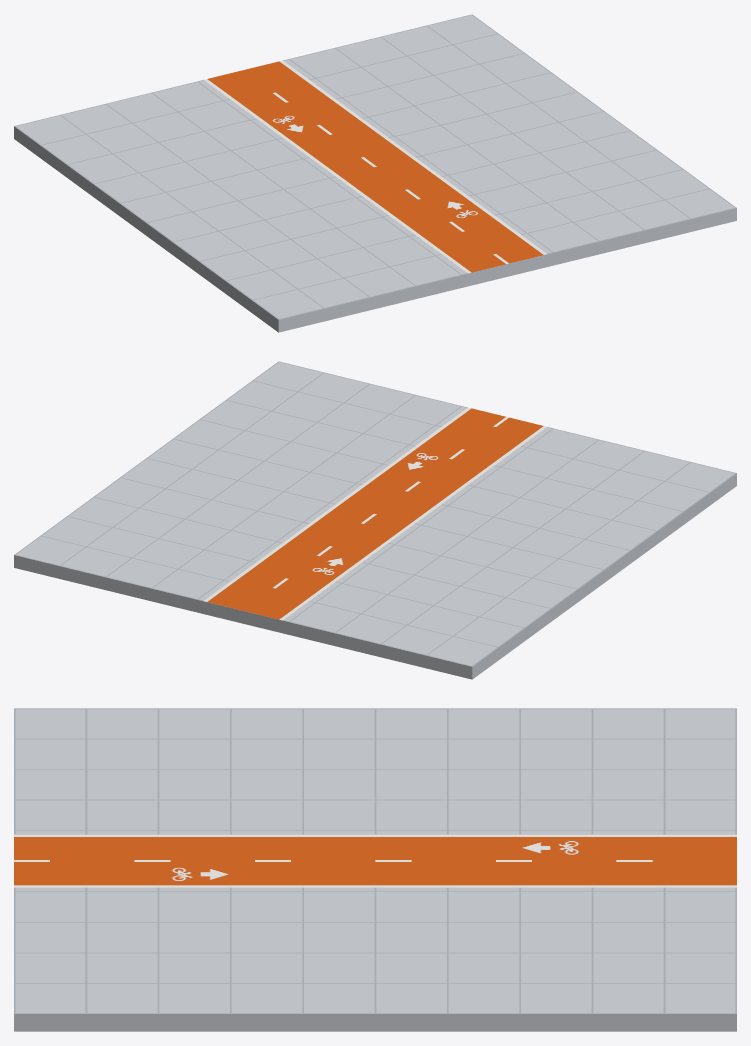
Rendered from ciclovia_reta.glb.
3 renders of one model, top to bottom at view 1: azimuth 30°, elevation 25°; view 2: azimuth 150°, elevation 25°; view 3: azimuth 270°, elevation 25°, orthographic. The views are drawn at different scales.
Parts seen in each view (by area): view 1: ciclovia_reta; view 2: ciclovia_reta; view 3: ciclovia_reta.
Boxes of the visible parts, bbox=[...] form: ciclovia_reta: bbox=[14, 14, 736, 332]; ciclovia_reta: bbox=[14, 361, 736, 679]; ciclovia_reta: bbox=[14, 708, 736, 1031].
Bounding box in the file's own units: 15 × 0.4045 × 15.
Materials: 2 (2 with a texture image).
